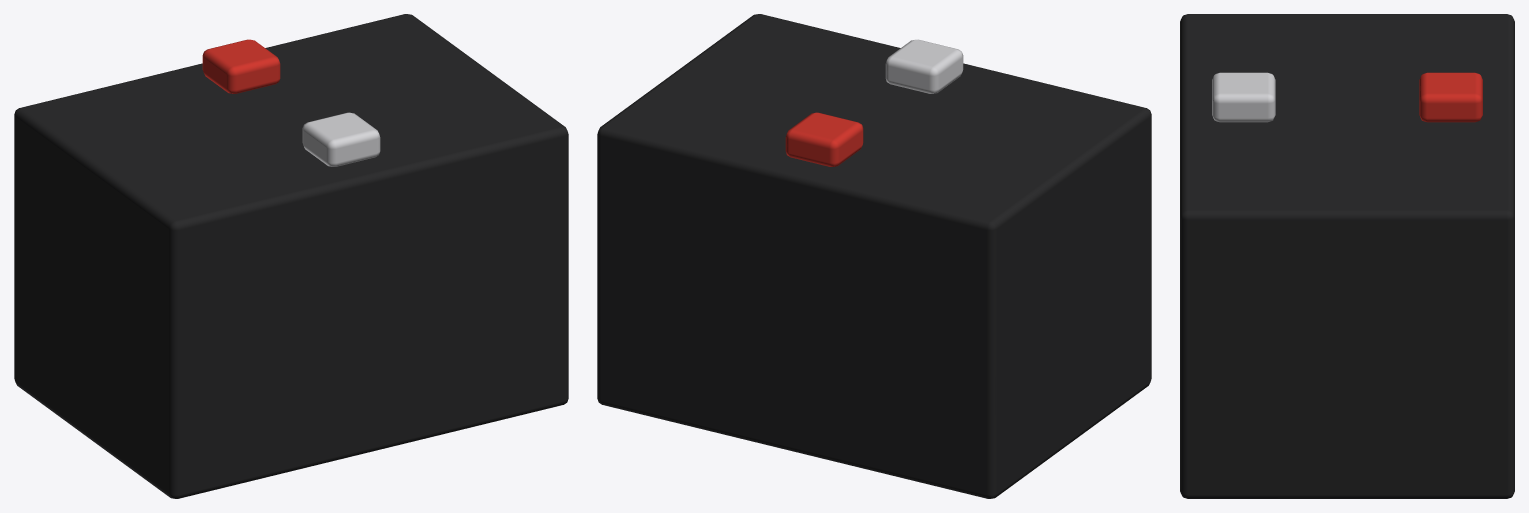
The model's file is bike_superbike__battery.glb.
The picture shows the model from 3 angles, left to right: view 1: azimuth 30°, elevation 25°; view 2: azimuth 150°, elevation 25°; view 3: azimuth 270°, elevation 25°; orthographic projection. The views are drawn at different scales.
Visible parts, largest first — view 1: electrical__battery; view 2: electrical__battery; view 3: electrical__battery.
Part boxes in pixels (<box>): electrical__battery: <box>14,14,568,498</box>; electrical__battery: <box>597,14,1151,498</box>; electrical__battery: <box>1180,14,1514,498</box>.
Size of the model in its own units: 12 by 8.8 by 8.4.
